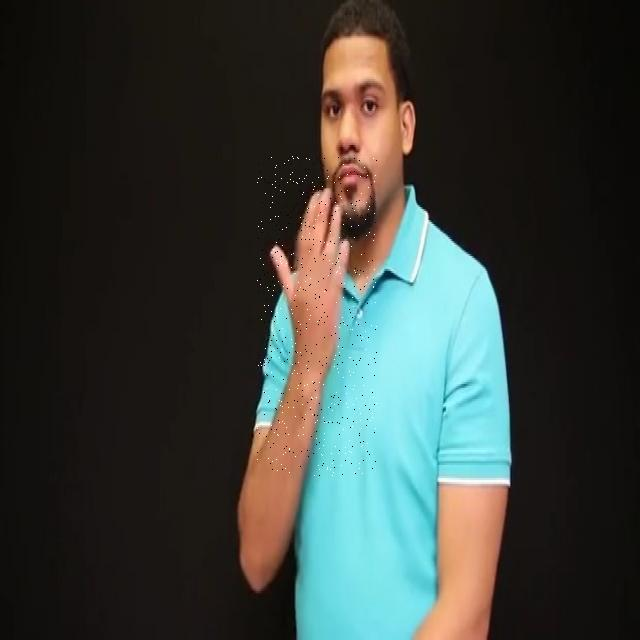sugar: (257, 156, 377, 476)
